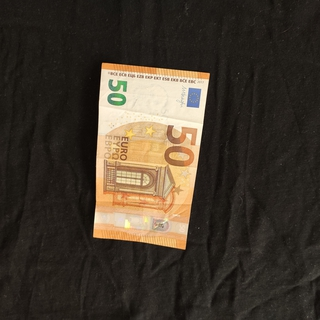50EUROFront: (91, 62, 210, 250)
